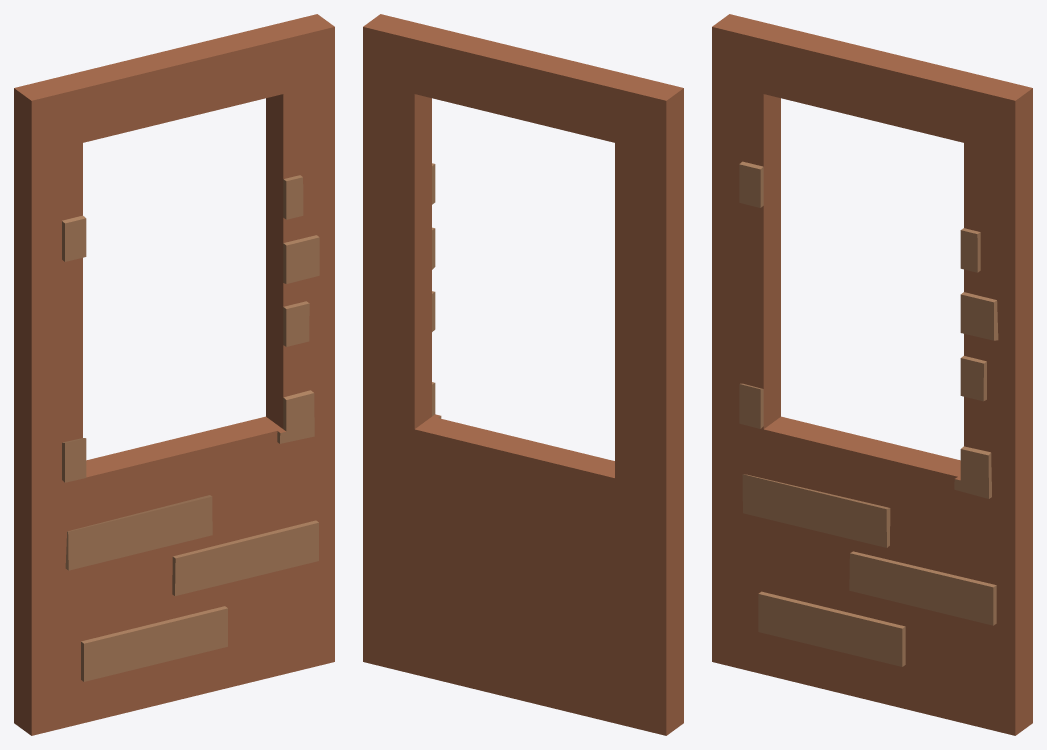
Rendered from BrickV3SmallWindowframe.fbx.
The picture shows the model from 3 angles, left to right: view 1: azimuth 30°, elevation 25°; view 2: azimuth 150°, elevation 25°; view 3: azimuth 330°, elevation 25°; orthographic projection.
Parts seen in each view (by area): view 1: BrickV3SmallWindowframe; view 2: BrickV3SmallWindowframe; view 3: BrickV3SmallWindowframe.
Part boxes in pixels (<box>): BrickV3SmallWindowframe: <box>14,14,334,735</box>; BrickV3SmallWindowframe: <box>363,14,683,735</box>; BrickV3SmallWindowframe: <box>712,14,1032,735</box>.
Size of the model in its own units: 100 by 200 by 11.75.
